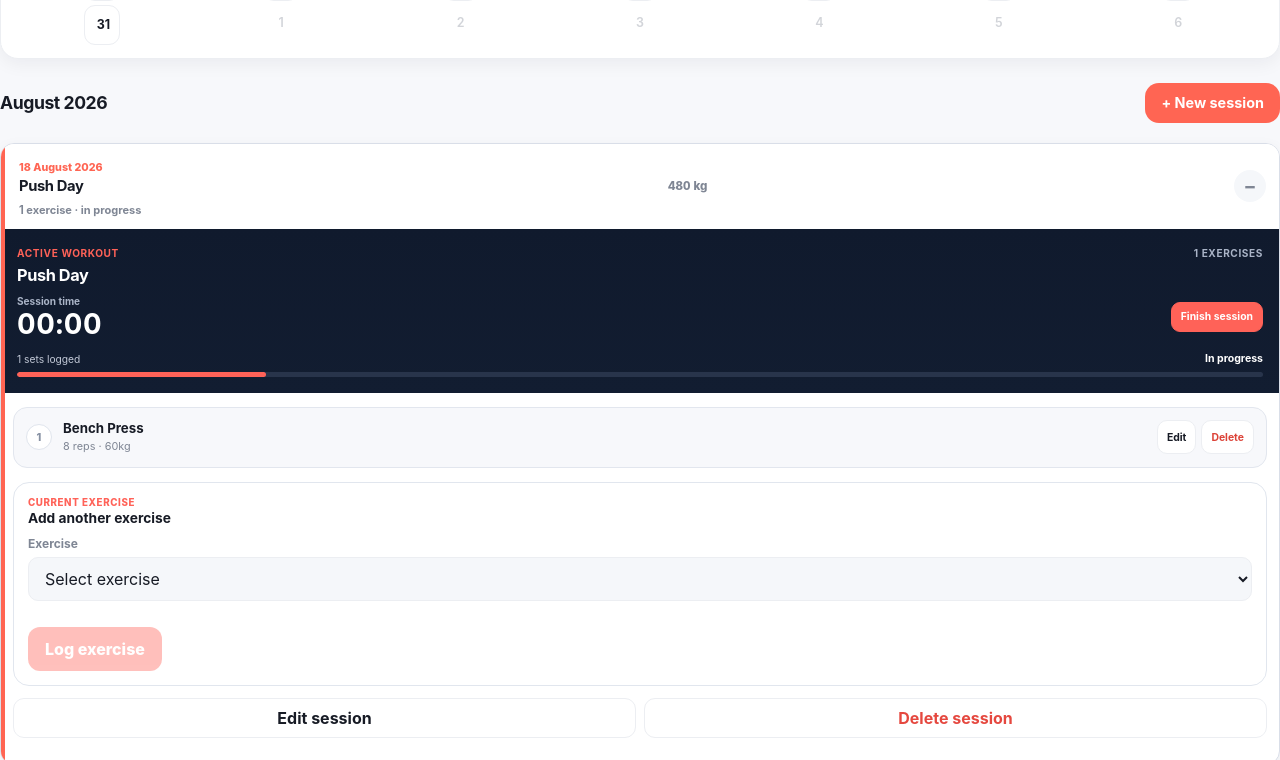
Test: workout session deletion safety › leaves the session untouched when deleting its entries is refused
The width and height of the screenshot is (1280, 760).
(page scrolled)
What coordinates should you click on to do the following:
click the button "Delete session"
I would click on:
 (956, 718)
Its box is [644,698,1267,738].
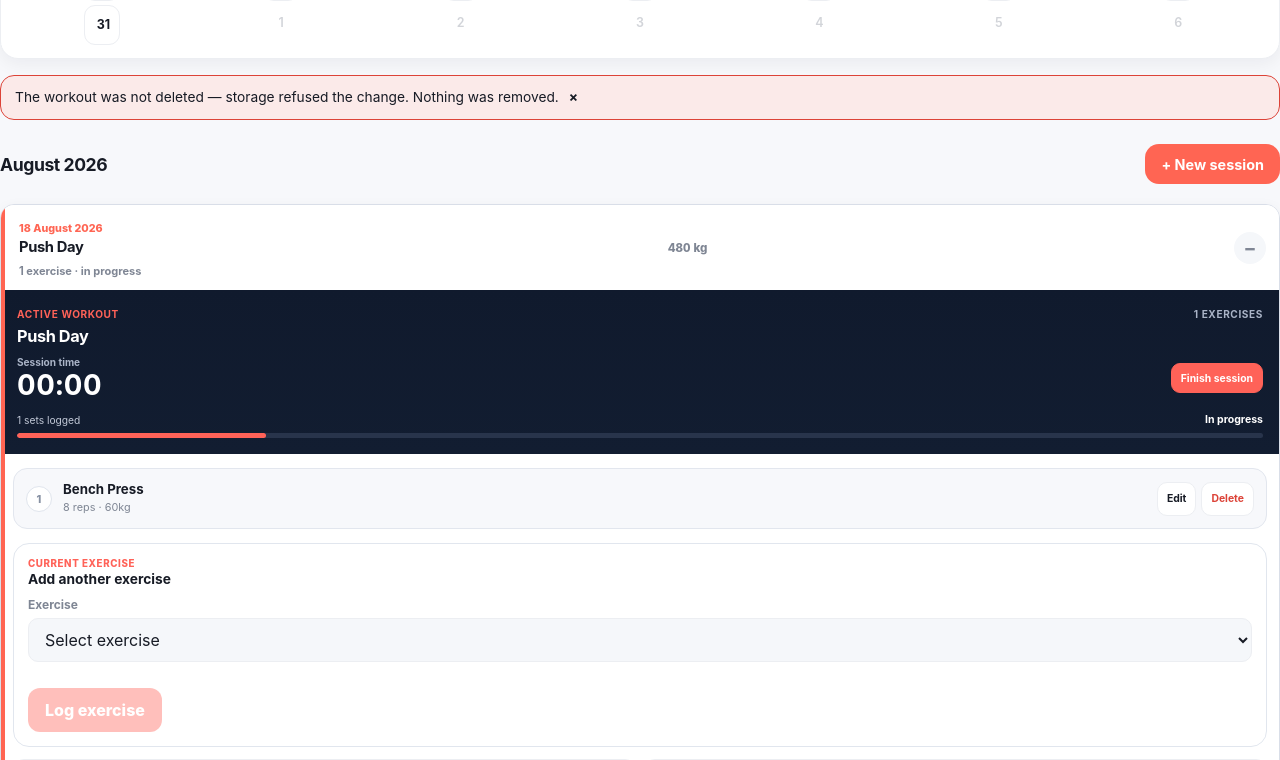
expect the message shows "Nothing was removed": met, box [15,89,559,105]
